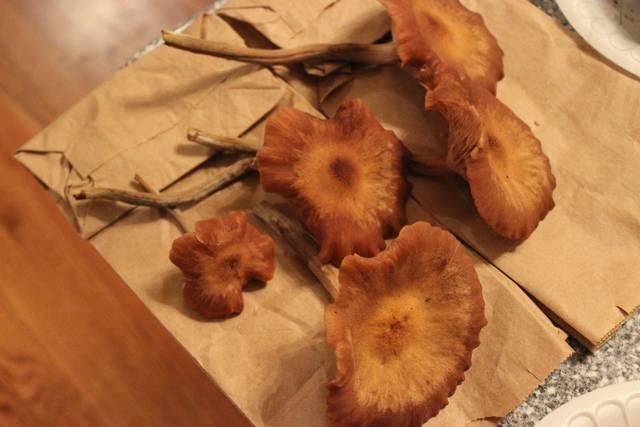Edible Mushroom: (146, 0, 517, 111), (322, 220, 488, 426), (254, 96, 412, 265), (412, 77, 564, 246), (168, 209, 276, 318)
